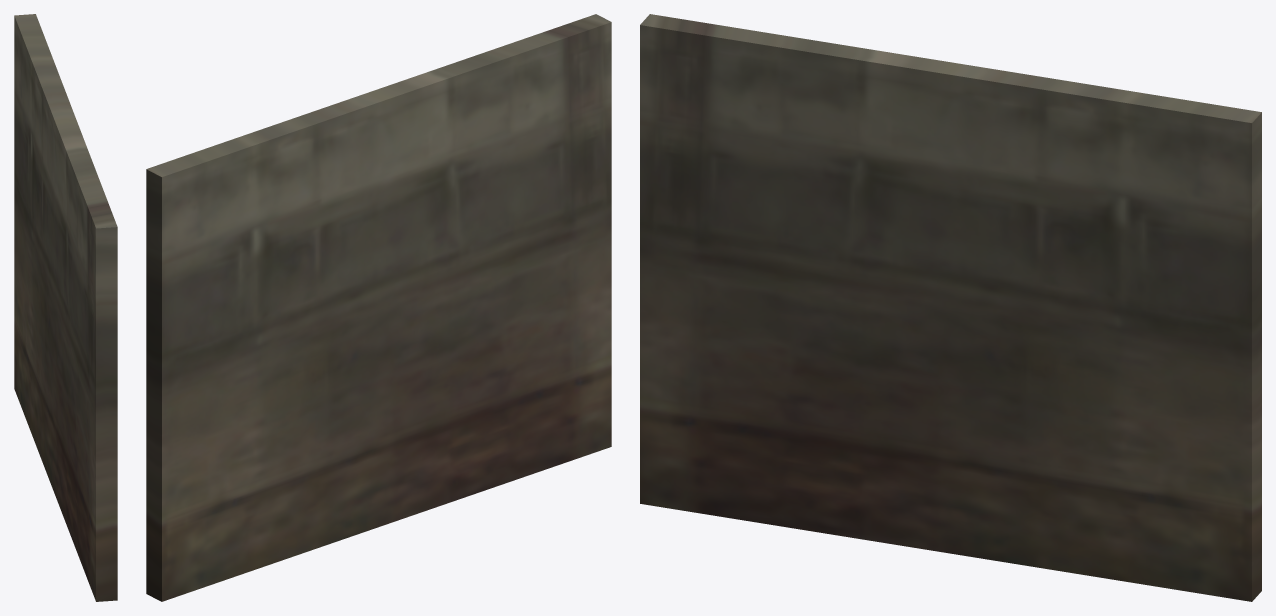
3 views of the same model, side by side, from view 1: azimuth 30°, elevation 25°; view 2: azimuth 150°, elevation 25°; view 3: azimuth 270°, elevation 25° (orthographic). The views are drawn at different scales.
Parts seen in each view (by area): view 1: H1_F1_W2; view 2: H1_F1_W2; view 3: H1_F1_W2.
Part boxes in pixels (x1,y1,x2,y2): H1_F1_W2: (14, 14, 117, 601); H1_F1_W2: (146, 14, 611, 601); H1_F1_W2: (640, 14, 1261, 601).
Bounding box in the file's own units: 4.75 × 9.7 × 11.42.
Materials: 1 (1 with a texture image).
